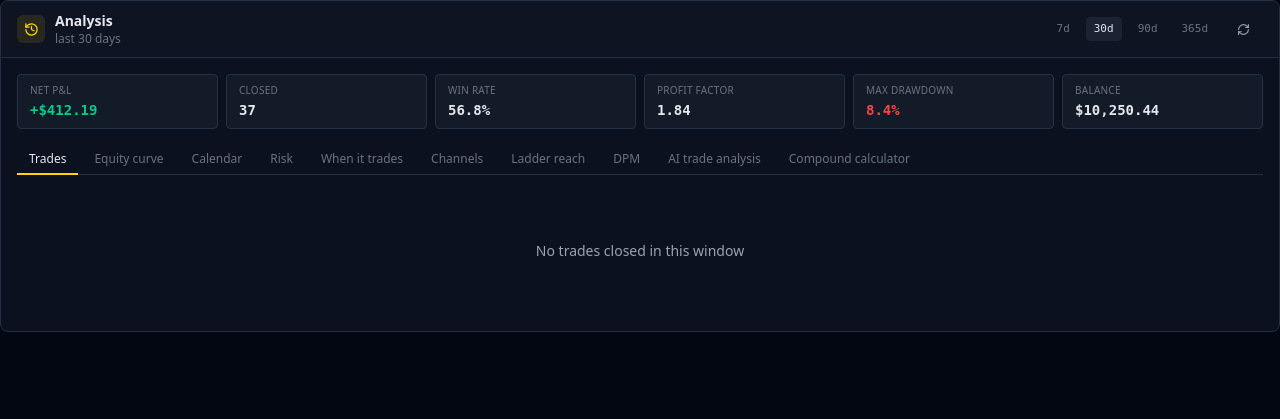
Test: the heatmap › says the grid is in UTC
Click the tab "When it trades" at (362, 160), box [309,145,415,175]
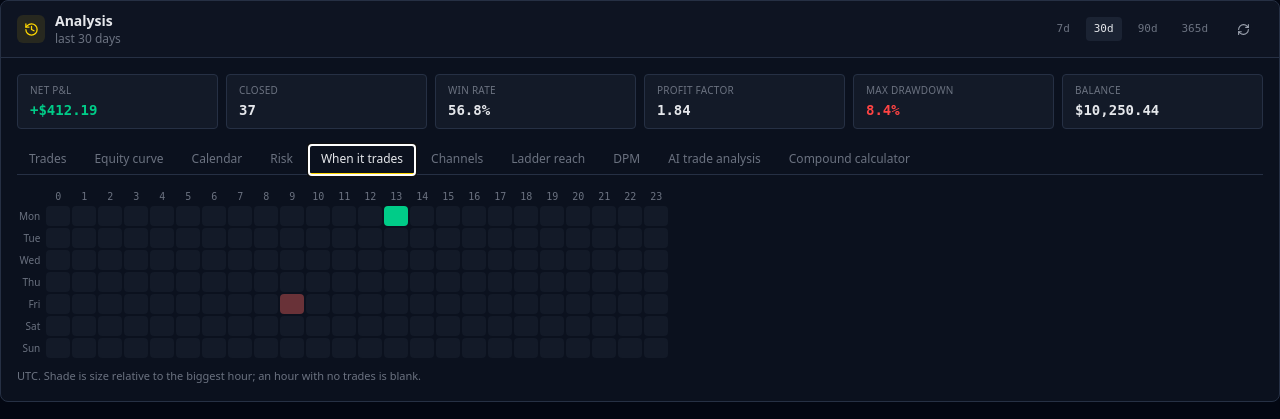
Check: the text "UTC." is shown, box [17,368,421,383]
